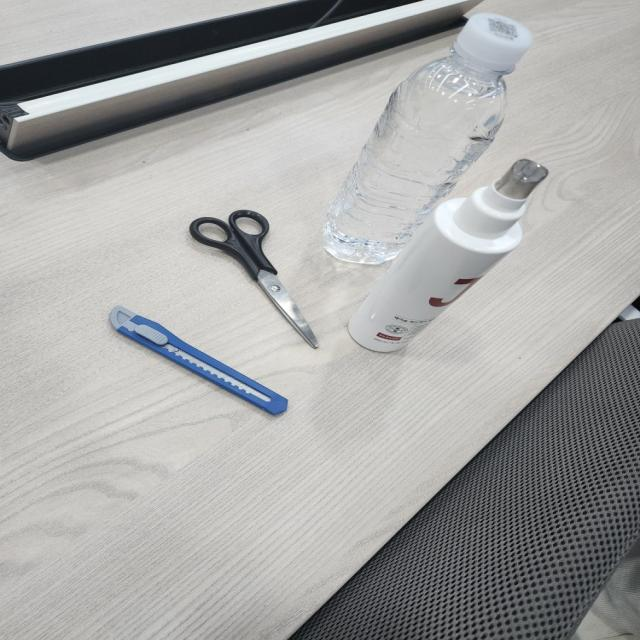cutter: (109, 306, 297, 418)
scissors: (184, 208, 325, 350)
spray: (343, 156, 549, 355)
water: (320, 11, 530, 260)
